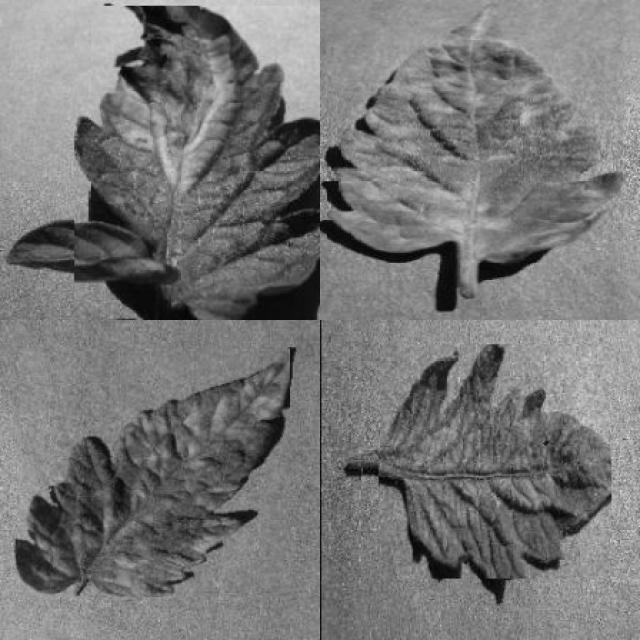Early Blight: (74, 6, 320, 320)
Leaf Mold: (327, 3, 623, 264), (16, 349, 290, 597)
Mosaic Virus: (378, 344, 612, 579)
